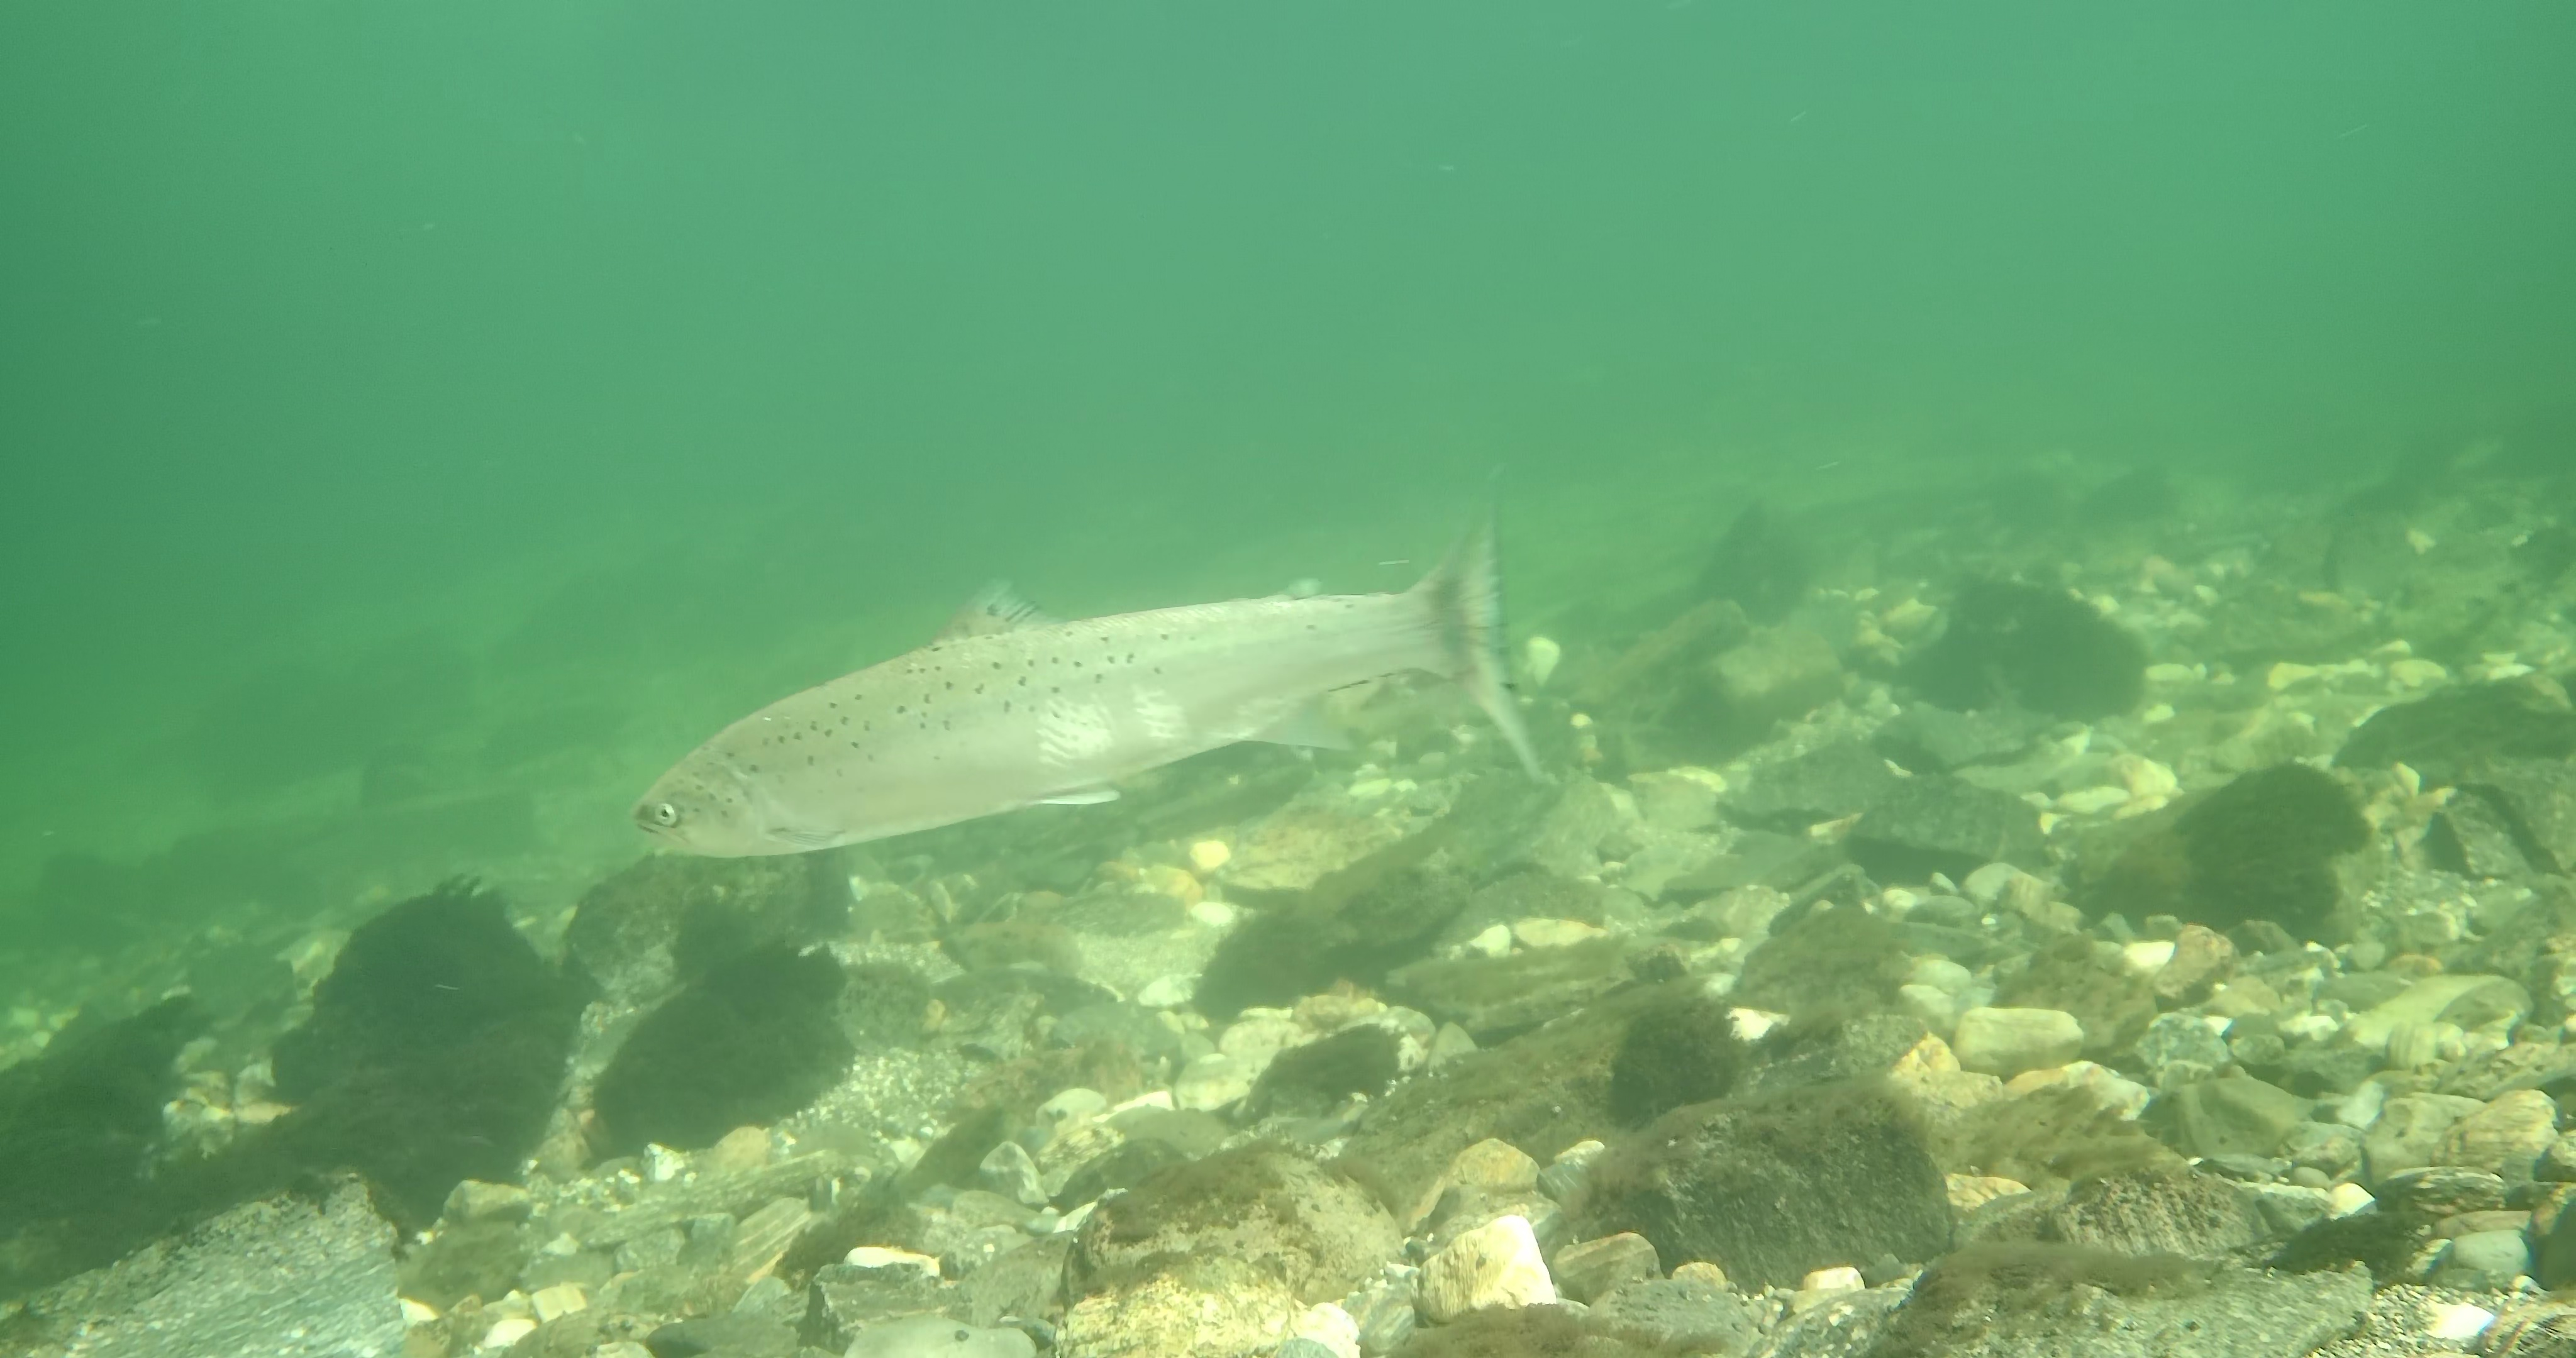salmon: (627, 496, 1552, 862)
